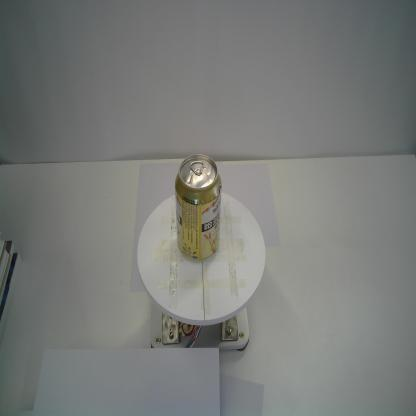Alcohol: (174, 152, 223, 264)
